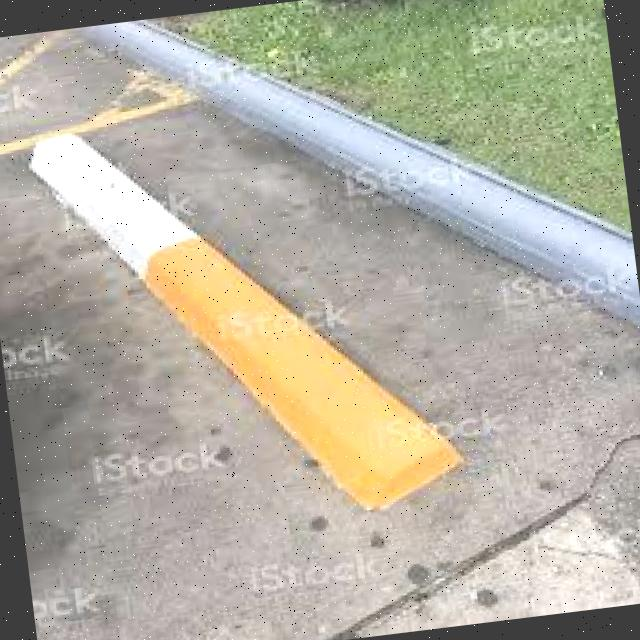curb: (23, 103, 440, 519), (408, 118, 640, 357), (94, 6, 279, 137)
